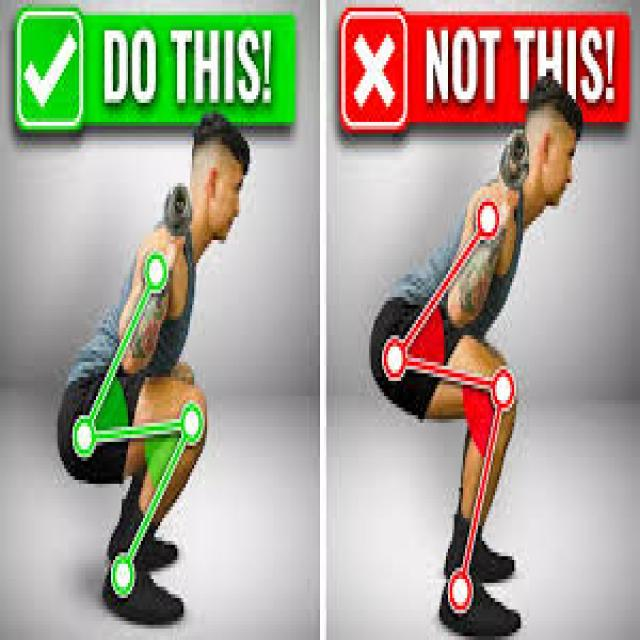squat: (59, 123, 245, 626)
